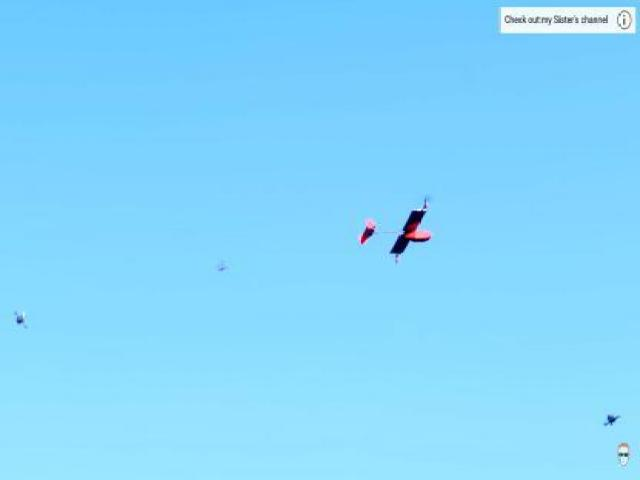uav: (352, 189, 442, 268)
